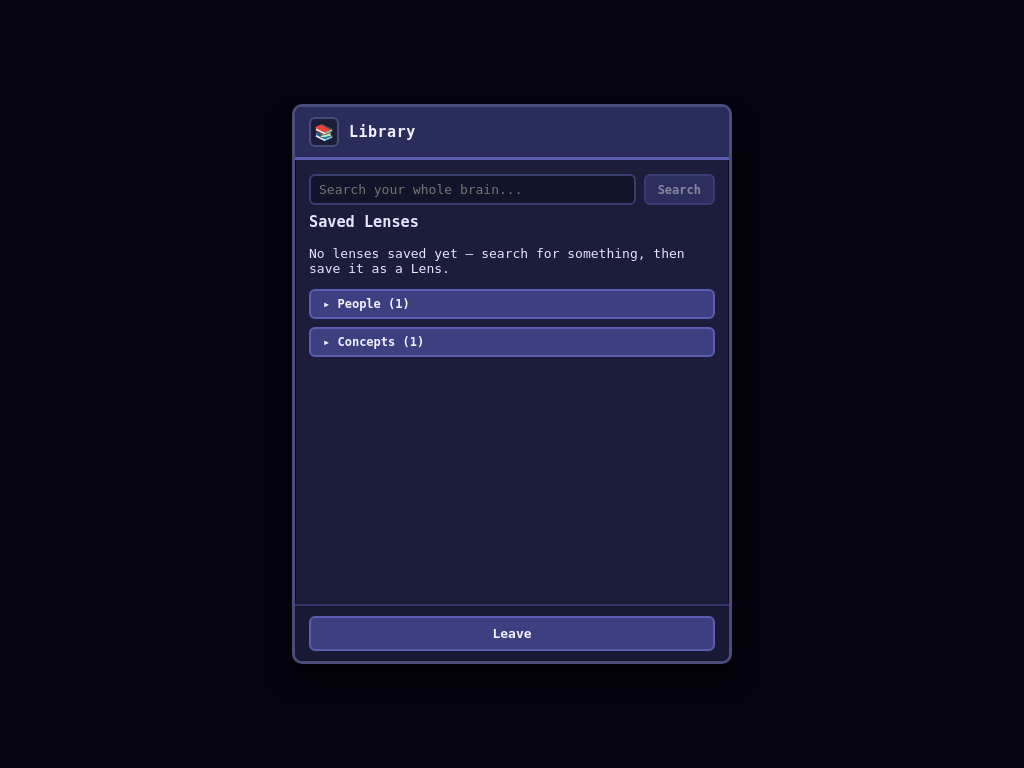
LibraryOverlay › shows real shelves grouped by type, collapsed by default
The image size is (1024, 768).
Expected: the text "Alice" is not shown
Click the button "▸ People (1)": (359,304) [309,289,715,319]
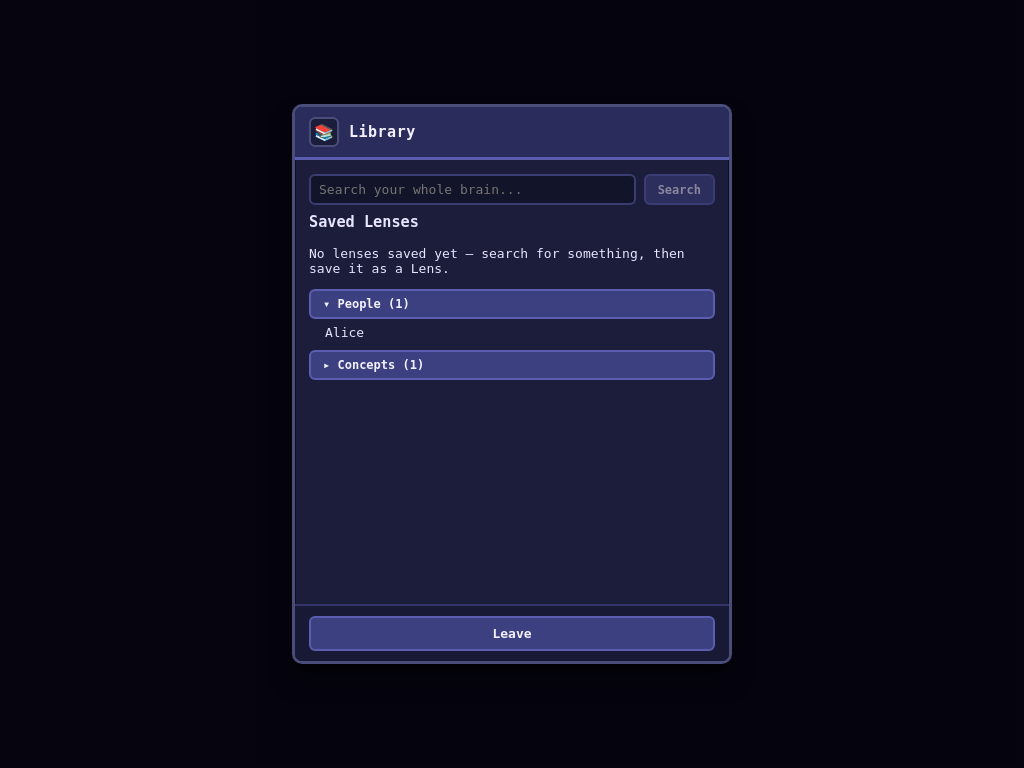
Expected: the list item "Alice" is shown, [325,325,364,340]
